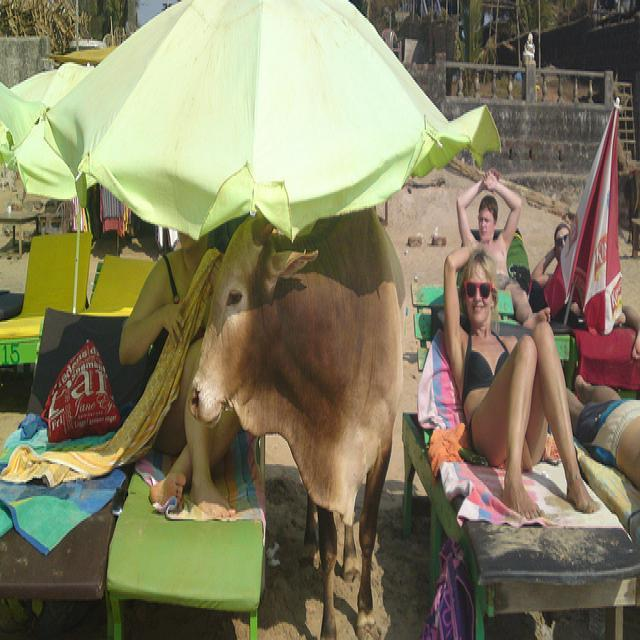cow: (184, 201, 407, 636)
